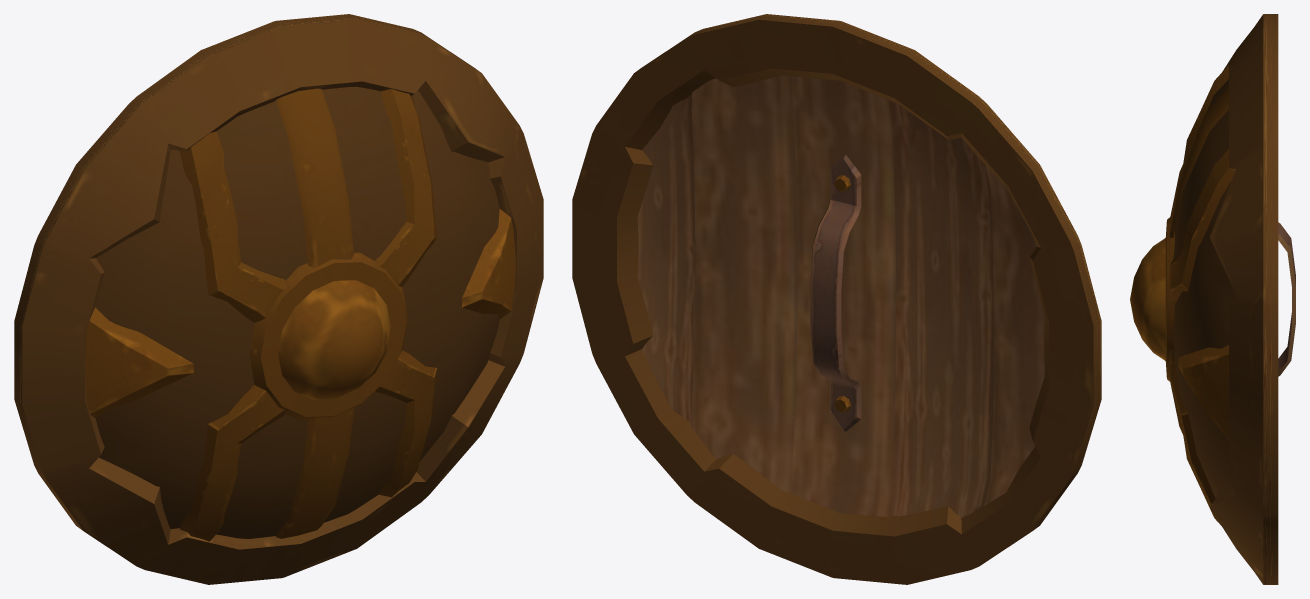
Rendered from Shield_Metal.gltf.
The picture shows the model from 3 angles, left to right: view 1: azimuth 30°, elevation 25°; view 2: azimuth 150°, elevation 25°; view 3: azimuth 270°, elevation 25°; orthographic projection. The views are drawn at different scales.
Parts seen in each view (by area): view 1: Shield_Metal; view 2: Shield_Metal; view 3: Shield_Metal.
Part boxes in pixels (<box>): Shield_Metal: <box>14,14,543,584</box>; Shield_Metal: <box>572,14,1101,584</box>; Shield_Metal: <box>1130,14,1295,584</box>.
Size of the model in its own units: 0.6146 by 0.6209 by 0.1788.
3 materials, 3 textured.
